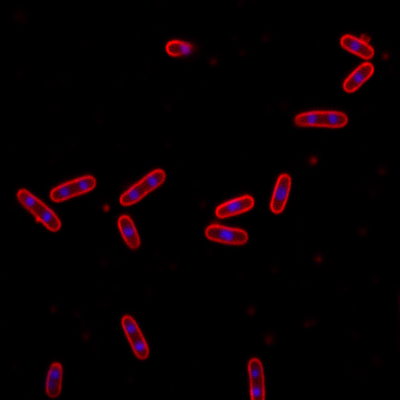CAM: (15, 186, 62, 232), (117, 167, 167, 208), (48, 173, 97, 204), (119, 312, 150, 361), (340, 60, 375, 95), (205, 223, 250, 250), (291, 110, 350, 130), (212, 193, 255, 220), (338, 33, 375, 60), (116, 213, 143, 250), (269, 171, 292, 214), (45, 361, 64, 400)
Oblique: (163, 37, 201, 60)
Vesicle: (260, 332, 275, 348), (311, 252, 325, 265), (45, 303, 59, 316), (78, 329, 92, 342), (300, 317, 313, 330), (306, 154, 320, 166), (205, 56, 219, 68), (99, 202, 112, 214), (245, 304, 257, 317), (381, 50, 392, 62)
